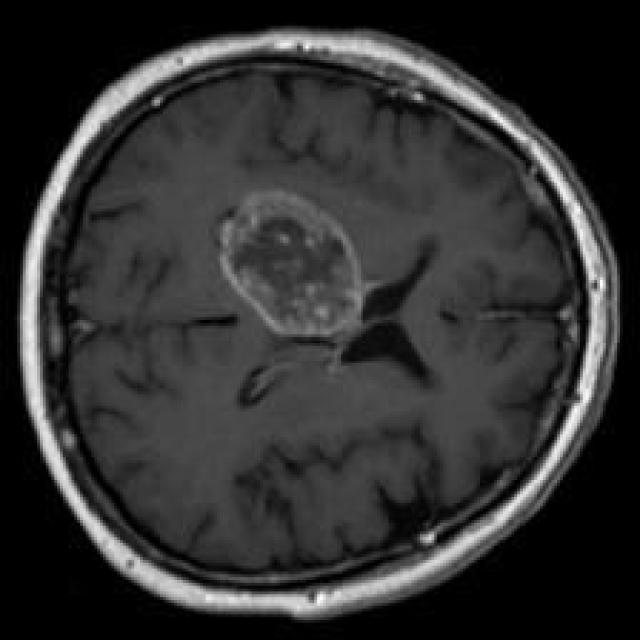Tumor: (214, 188, 366, 343)
